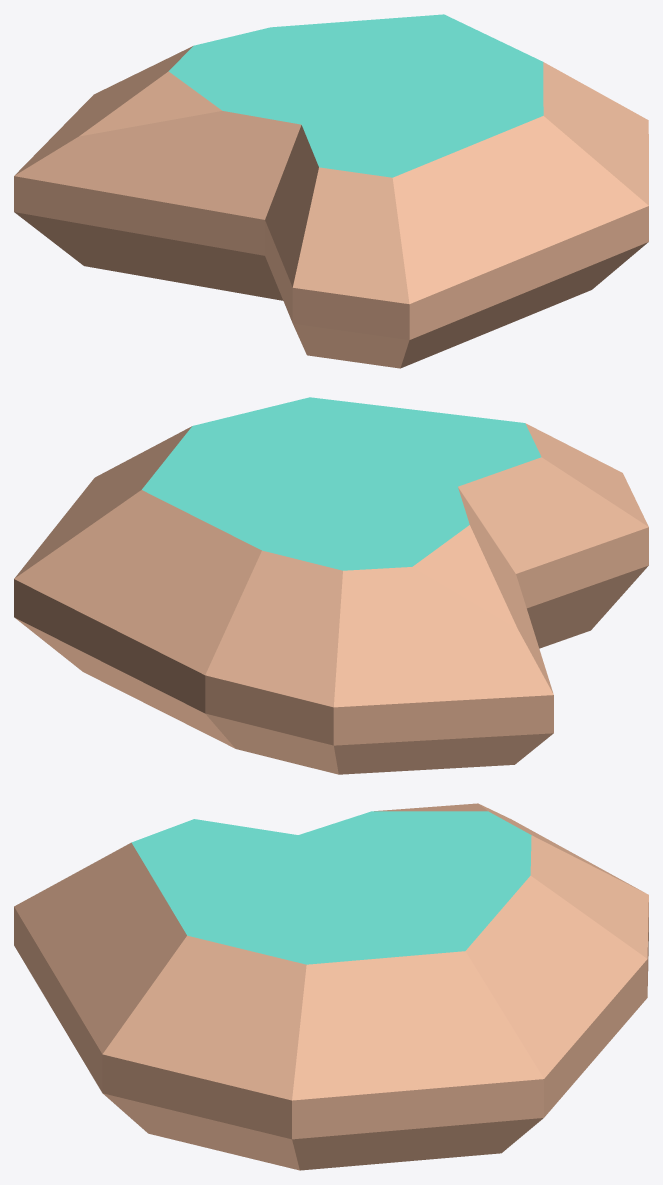
The model's file is rock_largeC.fbx.
The picture shows the model from 3 angles, top to bottom: view 1: azimuth 30°, elevation 25°; view 2: azimuth 150°, elevation 25°; view 3: azimuth 270°, elevation 25°; orthographic projection. The views are drawn at different scales.
Parts seen in each view (by area): view 1: rock_largeC_LOD0; view 2: rock_largeC_LOD0; view 3: rock_largeC_LOD0.
Part boxes in pixels (bbox=[...]): rock_largeC_LOD0: bbox=[14, 14, 648, 368]; rock_largeC_LOD0: bbox=[14, 397, 648, 774]; rock_largeC_LOD0: bbox=[14, 803, 648, 1170].
Size of what is drawn, in the model's own units: 106 by 32.11 by 102.
